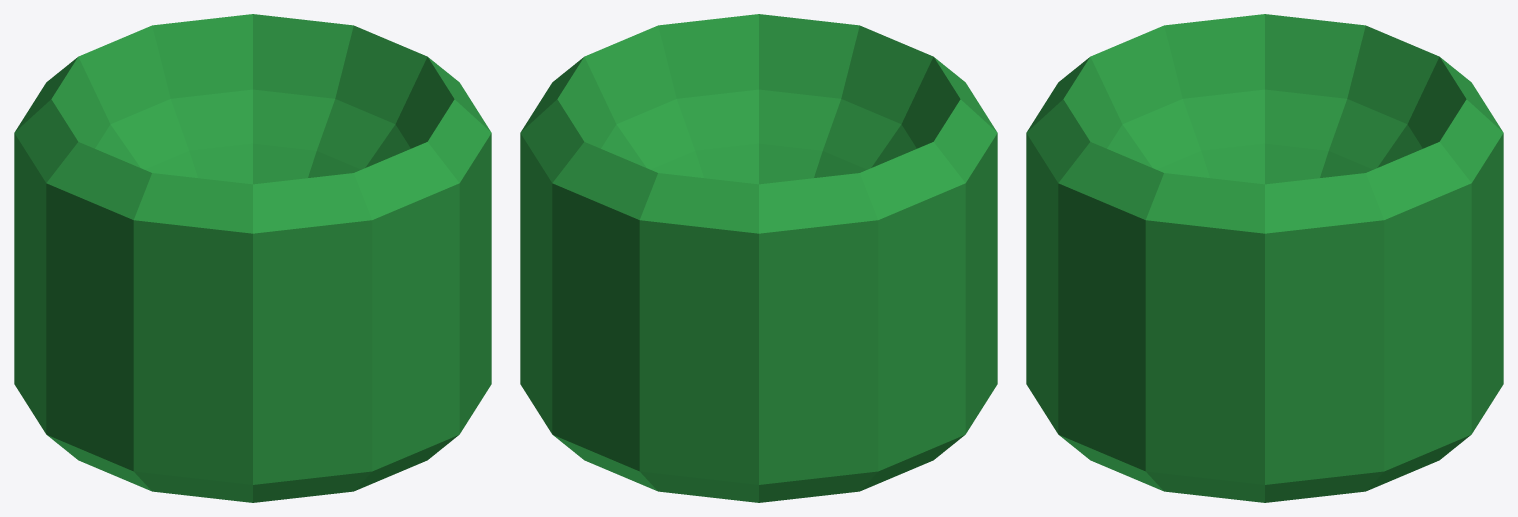
The model's file is Wheel3.OBJ.
The picture shows the model from 3 angles, left to right: view 1: azimuth 30°, elevation 25°; view 2: azimuth 150°, elevation 25°; view 3: azimuth 270°, elevation 25°; orthographic projection.
Parts seen in each view (by area): view 1: Wheel3_Wheel2; view 2: Wheel3_Wheel2; view 3: Wheel3_Wheel2.
Boxes of the visible parts, box(x1,y1,x2,y2) form: Wheel3_Wheel2: box(14, 14, 491, 502); Wheel3_Wheel2: box(520, 14, 997, 502); Wheel3_Wheel2: box(1026, 14, 1503, 502).
Bounding box in the file's own units: 0.5092 × 0.375 × 0.5092.
